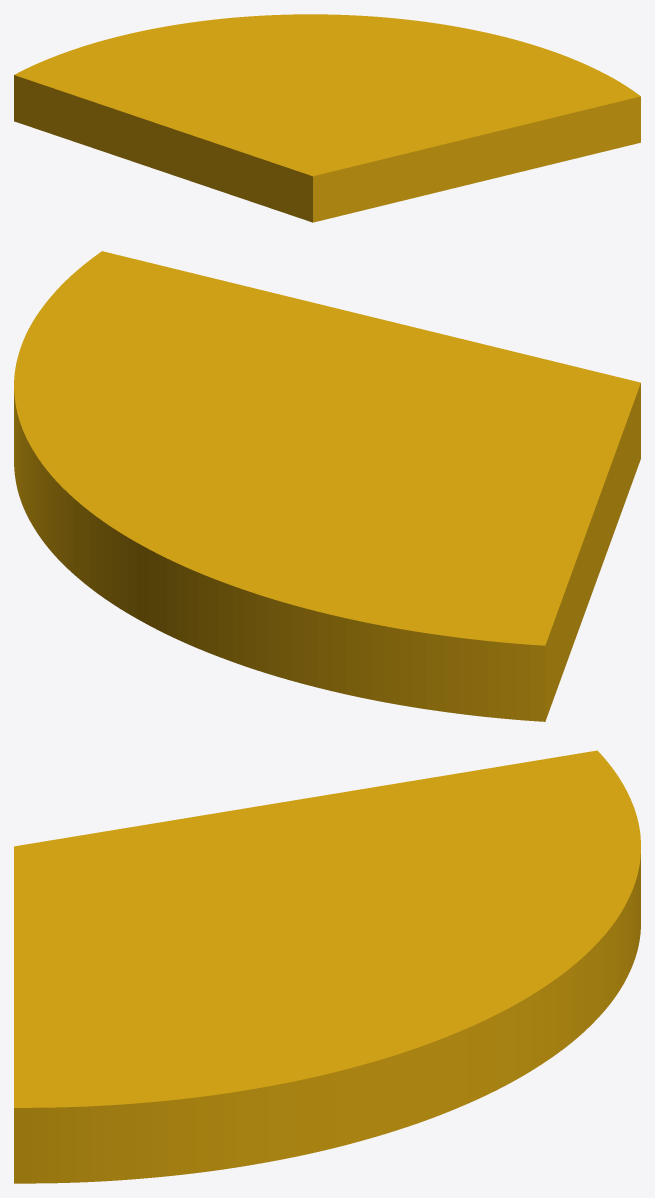
Rendered from want30.gltf.
3 views of the same model, one above another, from view 1: azimuth 30°, elevation 25°; view 2: azimuth 150°, elevation 25°; view 3: azimuth 270°, elevation 25° (orthographic). The views are drawn at different scales.
Parts seen in each view (by area): view 1: 30wants; view 2: 30wants; view 3: 30wants.
Part boxes in pixels (x1,y1,x2,y2): 30wants: (14, 14, 640, 222); 30wants: (14, 251, 640, 721); 30wants: (14, 750, 640, 1183).
Bounding box in the file's own units: 2.68 × 0.2649 × 1.99.
